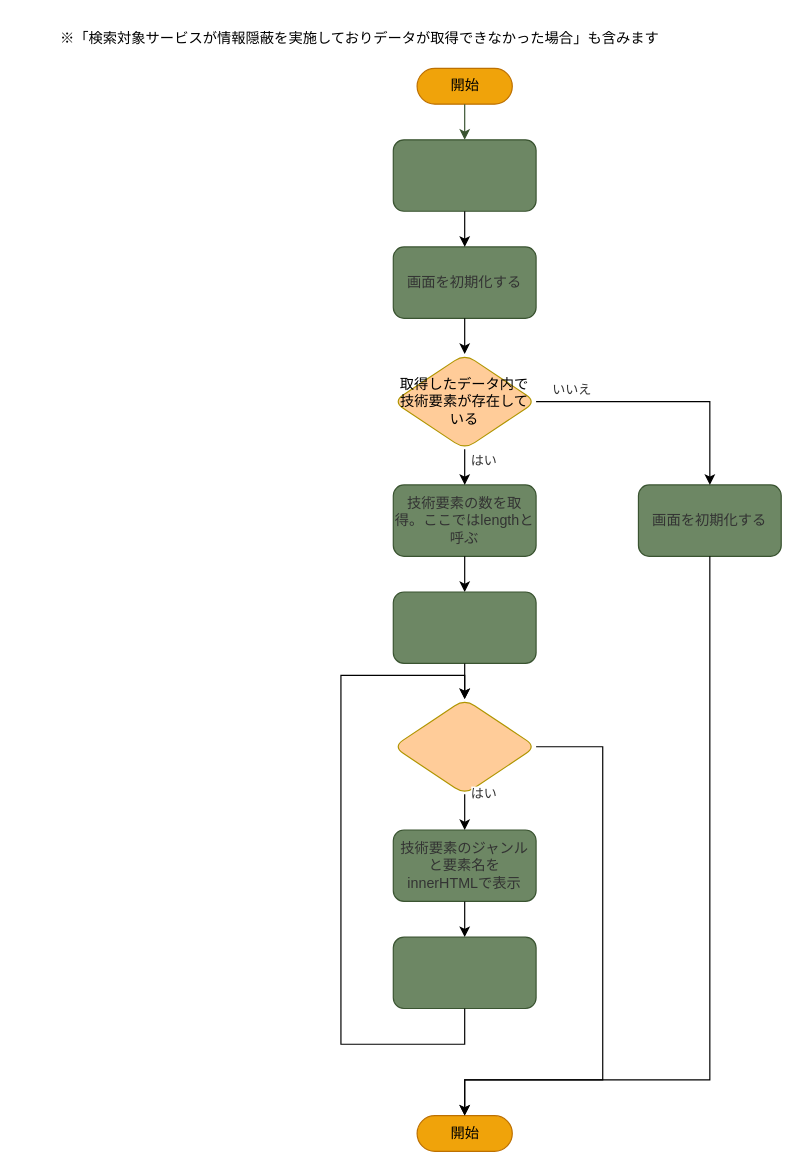
This 802x1172 diagram has some shape labels left out. The shapes that lost their labels are listed below. From the top down, each one's box as (x1, y1, x2, y2) in pixels, then its label:
(392, 139, 536, 211): 検索文字列を削除
(392, 591, 536, 663): i = 0とする
(392, 698, 536, 794): length > i
(392, 936, 536, 1009): iに1加算する
